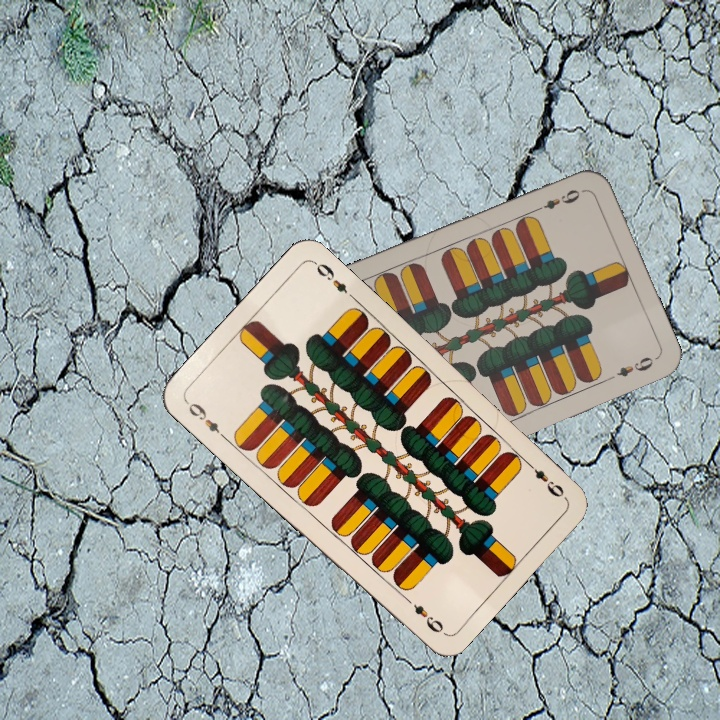E9: (182, 397, 230, 442), (521, 456, 567, 500), (530, 185, 583, 215)
